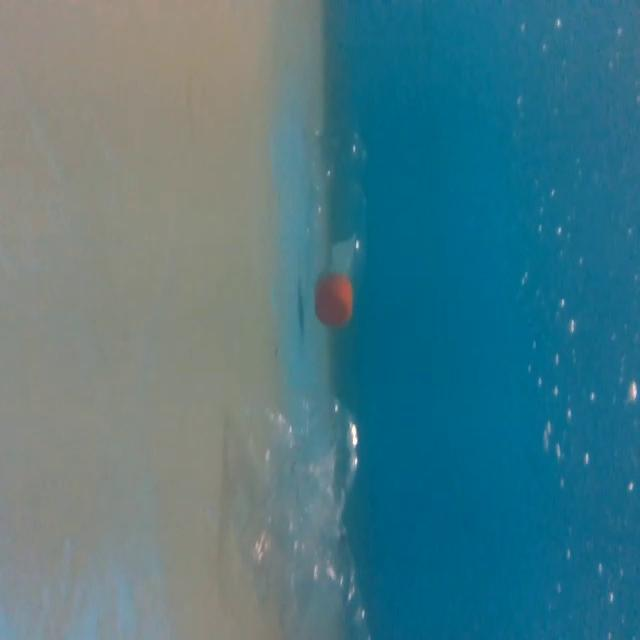plastic bottle: (226, 388, 386, 640), (296, 111, 379, 337)
